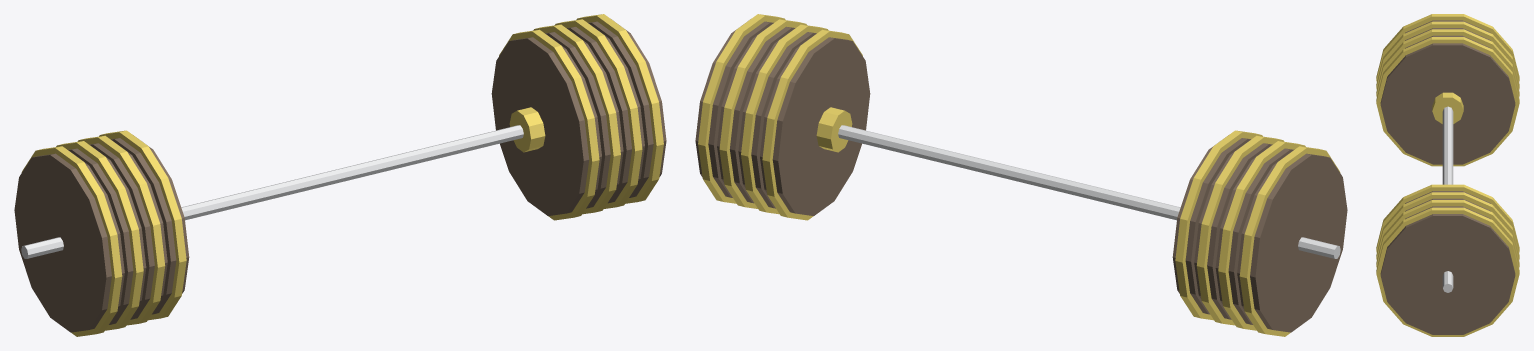
Rendered from Gold_Barbell.fbx.
3 renders of one model, left to right at view 1: azimuth 30°, elevation 25°; view 2: azimuth 150°, elevation 25°; view 3: azimuth 270°, elevation 25°, orthographic. The views are drawn at different scales.
Visible parts, largest first — view 1: Gold_Plates, Gold_Rims, Gold_Bar, Gold_Collars; view 2: Gold_Plates, Gold_Rims, Gold_Bar, Gold_Collars; view 3: Gold_Plates, Gold_Rims, Gold_Bar, Gold_Collars.
Part boxes in pixels (x1,y1,x2,y2): Gold_Plates: [14, 19, 666, 332]; Gold_Rims: [21, 14, 663, 336]; Gold_Bar: [21, 125, 523, 258]; Gold_Collars: [509, 107, 545, 152]; Gold_Plates: [695, 19, 1347, 332]; Gold_Rims: [698, 14, 1340, 336]; Gold_Bar: [838, 125, 1340, 258]; Gold_Collars: [816, 107, 852, 152]; Gold_Plates: [1380, 20, 1515, 334]; Gold_Rims: [1376, 14, 1519, 336]; Gold_Bar: [1442, 106, 1453, 292]; Gold_Collars: [1432, 92, 1463, 123].
Bounding box in the file's own units: 6.92 × 1.81 × 1.86.
